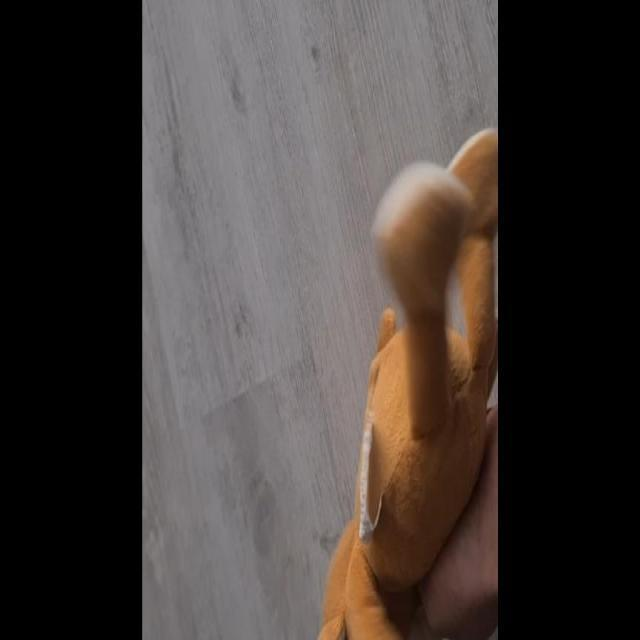soft-toy: (319, 130, 499, 640)
